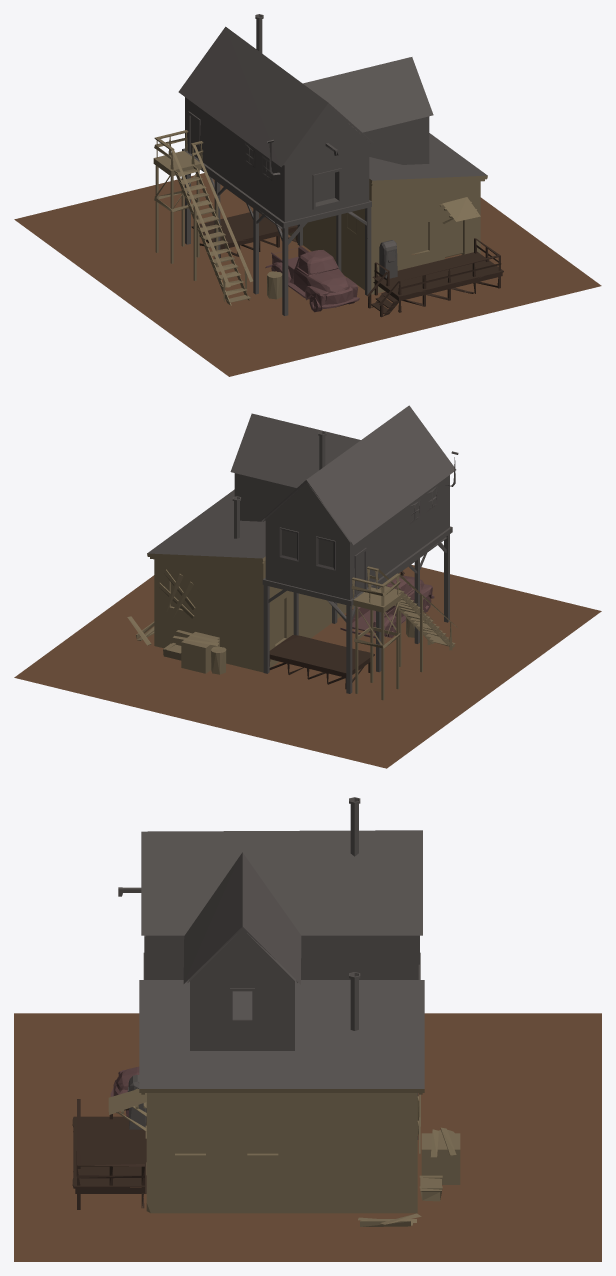
File: barn.lod1.glb
3 views of the same model, one above another, from view 1: azimuth 30°, elevation 25°; view 2: azimuth 150°, elevation 25°; view 3: azimuth 270°, elevation 25° (orthographic). The views are drawn at different scales.
Visible parts, largest first — view 1: polySurface3_barn_0; view 2: polySurface3_barn_0; view 3: polySurface3_barn_0.
Part boxes in pixels (x1,y1,x2,y2): polySurface3_barn_0: (14,14,601,376); polySurface3_barn_0: (14,405,601,768); polySurface3_barn_0: (14,797,601,1261).
Bounding box in the file's own units: 18.83 × 11.19 × 18.83.
